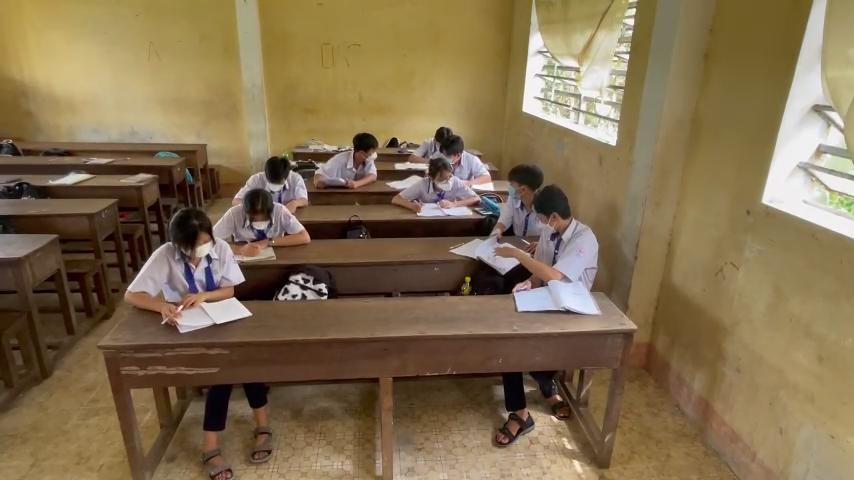Look Around: (497, 155, 540, 206), (530, 182, 573, 233), (343, 122, 385, 173)
Wave: (483, 239, 593, 284)
